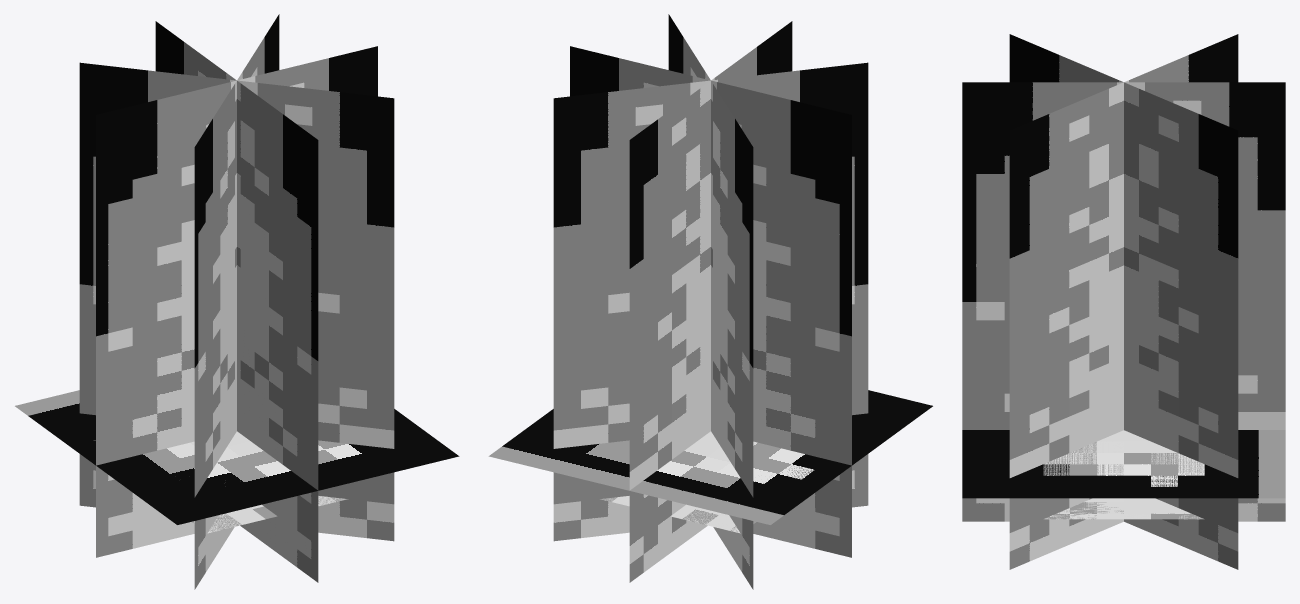
Rendered from smoke_trace.obj.
3 views of the same model, side by side, from view 1: azimuth 30°, elevation 25°; view 2: azimuth 150°, elevation 25°; view 3: azimuth 270°, elevation 25° (orthographic).
Parts seen in each view (by area): view 1: cube; view 2: cube; view 3: cube.
Part boxes in pixels (x1,y1,x2,y2): cube: (15, 14, 459, 589); cube: (488, 14, 932, 589); cube: (962, 34, 1285, 569).
Size of the model in its own units: 1 by 1.5 by 1.
